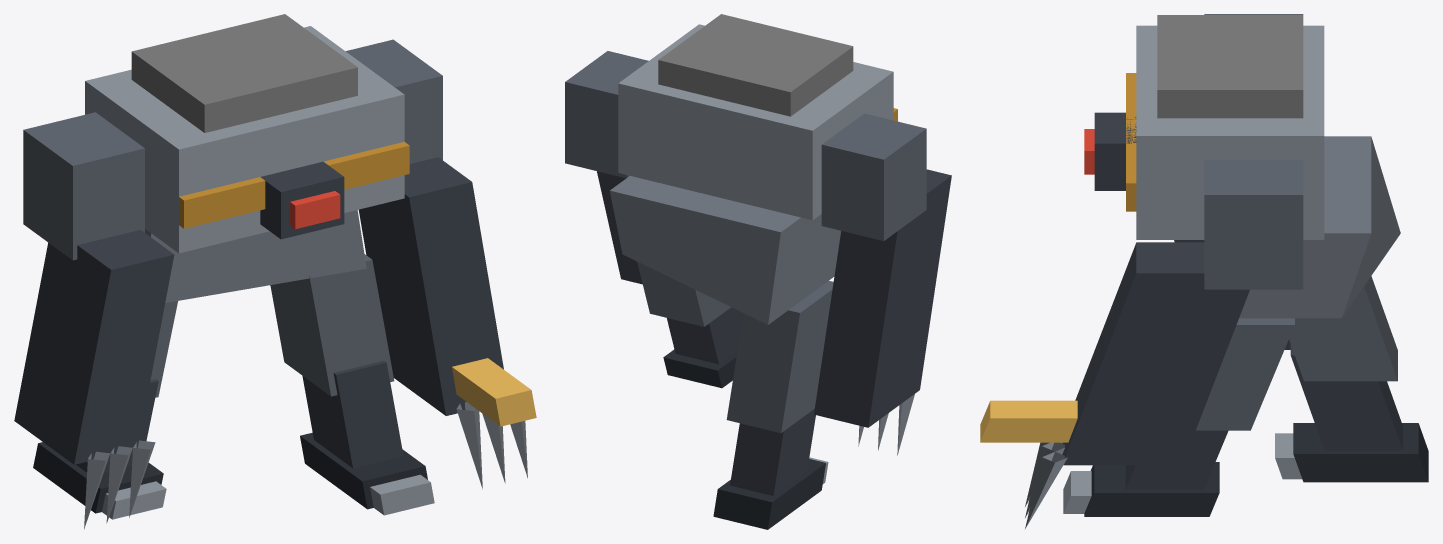
The model's file is wrecker-walk-2.obj.
3 views of the same model, side by side, from view 1: azimuth 30°, elevation 25°; view 2: azimuth 150°, elevation 25°; view 3: azimuth 270°, elevation 25° (orthographic). The views are drawn at different scales.
Parts seen in each view (by area): view 1: wrecker-walk-2; view 2: wrecker-walk-2; view 3: wrecker-walk-2.
Part boxes in pixels (left/top/right/bottom): wrecker-walk-2: left=14, top=14, right=536, bottom=529; wrecker-walk-2: left=565, top=14, right=951, bottom=529; wrecker-walk-2: left=980, top=14, right=1428, bottom=528.
Bounding box in the file's own units: 1.67 × 1.92 × 1.72.
